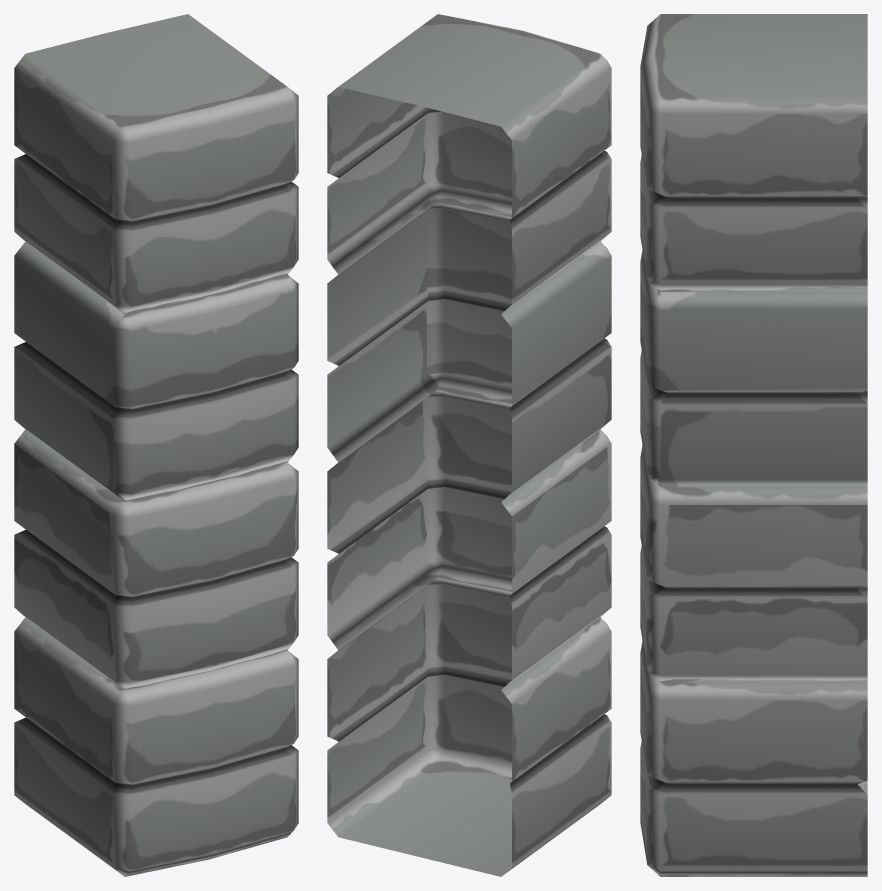
File: mod_med_platwallA_01.fbx
The picture shows the model from 3 angles, left to right: view 1: azimuth 30°, elevation 25°; view 2: azimuth 150°, elevation 25°; view 3: azimuth 270°, elevation 25°; orthographic projection. The views are drawn at different scales.
Visible parts, largest first — view 1: mod_med_platwall_a_01; view 2: mod_med_platwall_a_01; view 3: mod_med_platwall_a_01.
Part boxes in pixels (bbox=[...]): mod_med_platwall_a_01: bbox=[14, 14, 298, 876]; mod_med_platwall_a_01: bbox=[327, 14, 611, 876]; mod_med_platwall_a_01: bbox=[640, 14, 867, 876].
Size of the model in its own units: 11.74 by 45.63 by 12.02.
